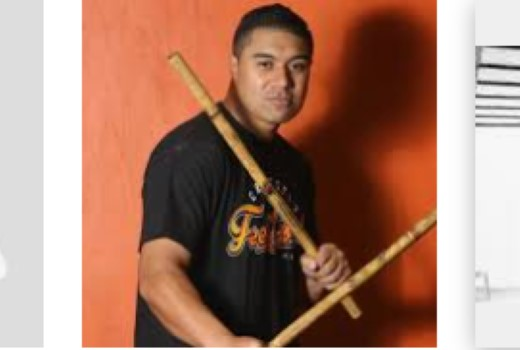baston_e: (171, 68, 341, 262), (334, 215, 422, 292), (266, 287, 338, 343)
baston_v: (343, 302, 372, 322), (164, 46, 186, 69)
